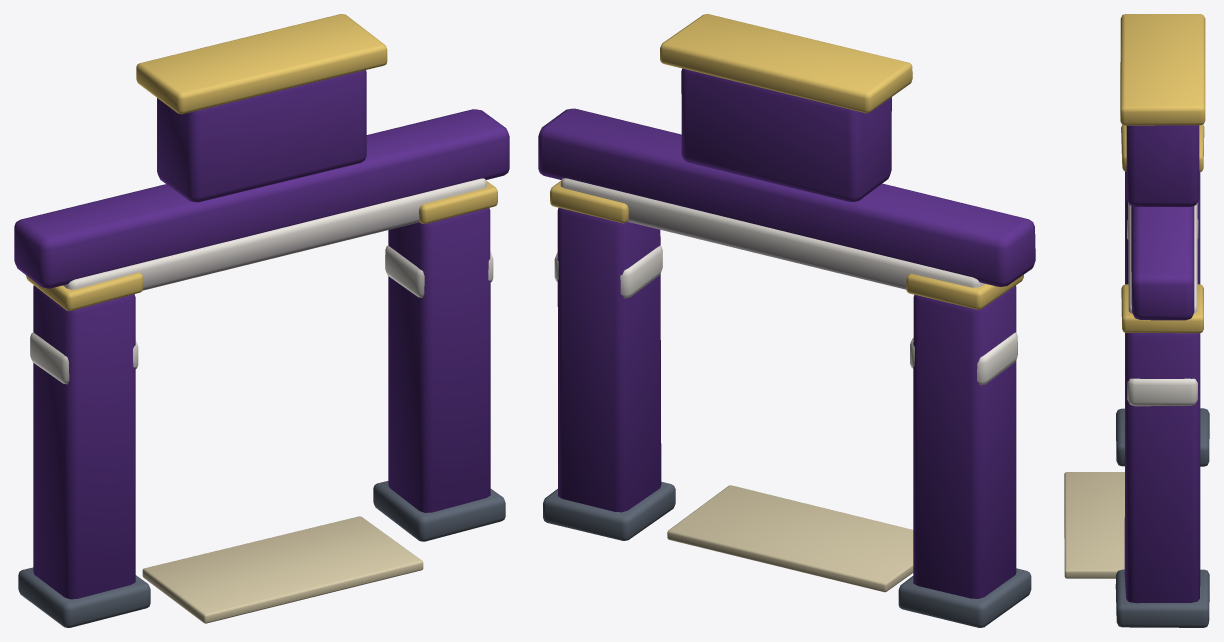
3 views of the same model, side by side, from view 1: azimuth 30°, elevation 25°; view 2: azimuth 150°, elevation 25°; view 3: azimuth 270°, elevation 25° (orthographic). The views are drawn at different scales.
Parts seen in each view (by area): view 1: gate_cc9a30a8; view 2: gate_cc9a30a8; view 3: gate_cc9a30a8.
Part boxes in pixels (left/top/right/bottom): gate_cc9a30a8: left=14, top=14, right=509, bottom=627; gate_cc9a30a8: left=538, top=14, right=1035, bottom=627; gate_cc9a30a8: left=1064, top=14, right=1209, bottom=627.
Size of the model in its own units: 5.15 by 5.3 by 1.48.
